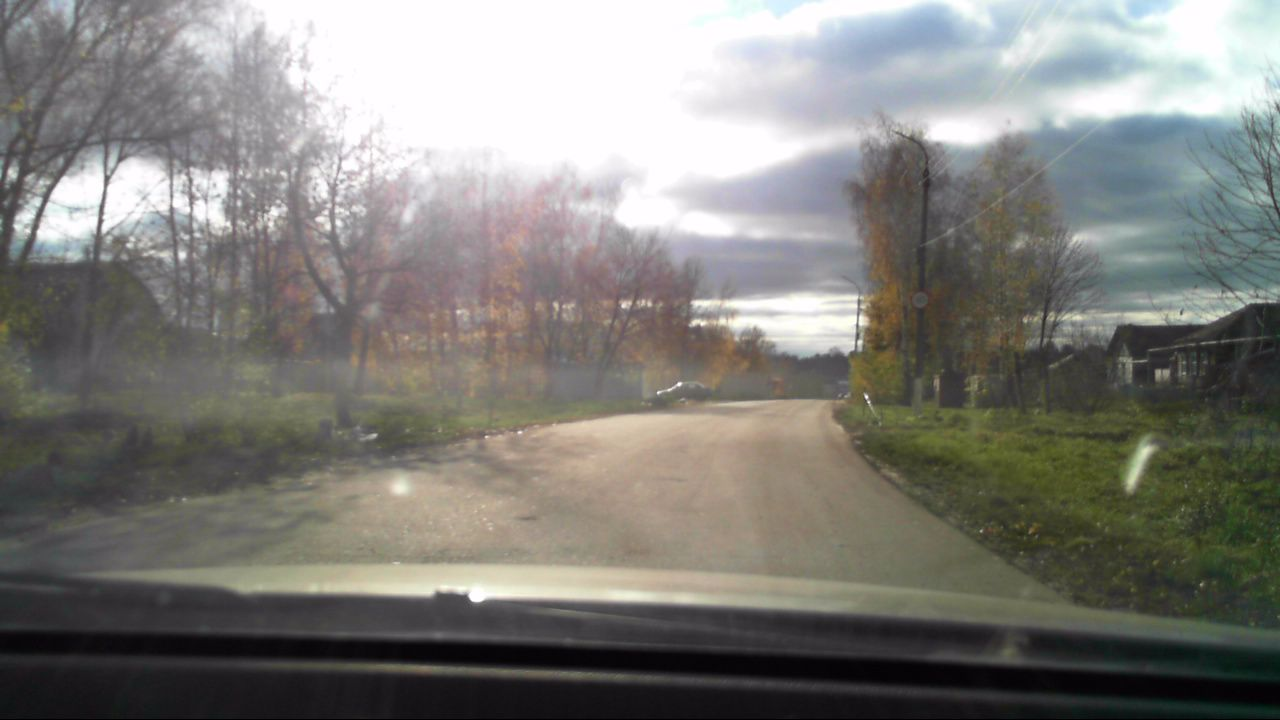speed_warning_40: (910, 292, 930, 310)
